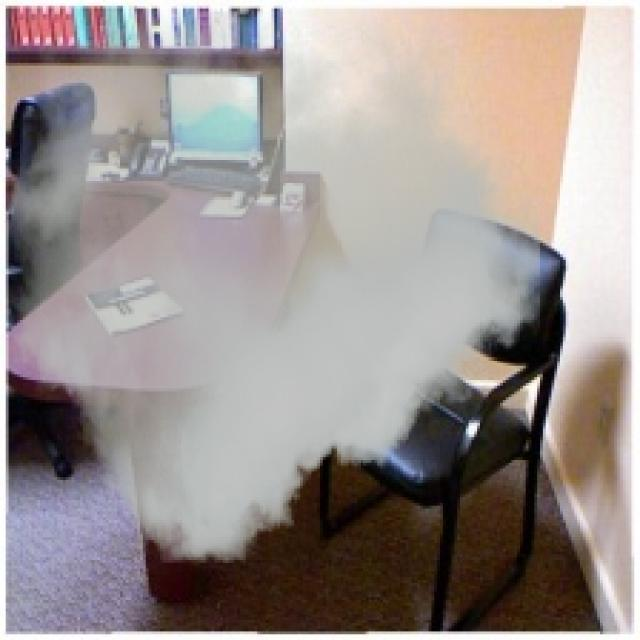Smoke: (6, 11, 540, 563)
